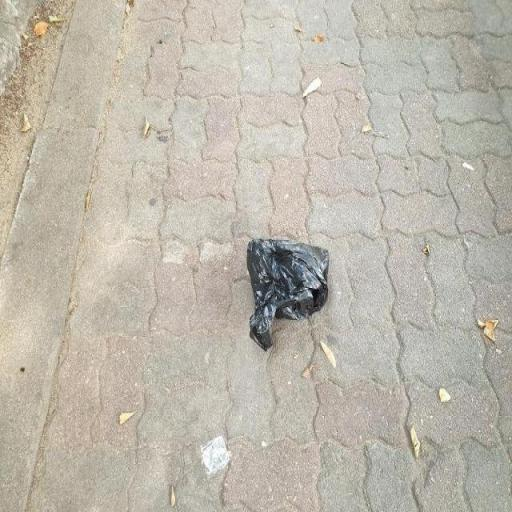plastic-bag: (245, 234, 332, 354)
